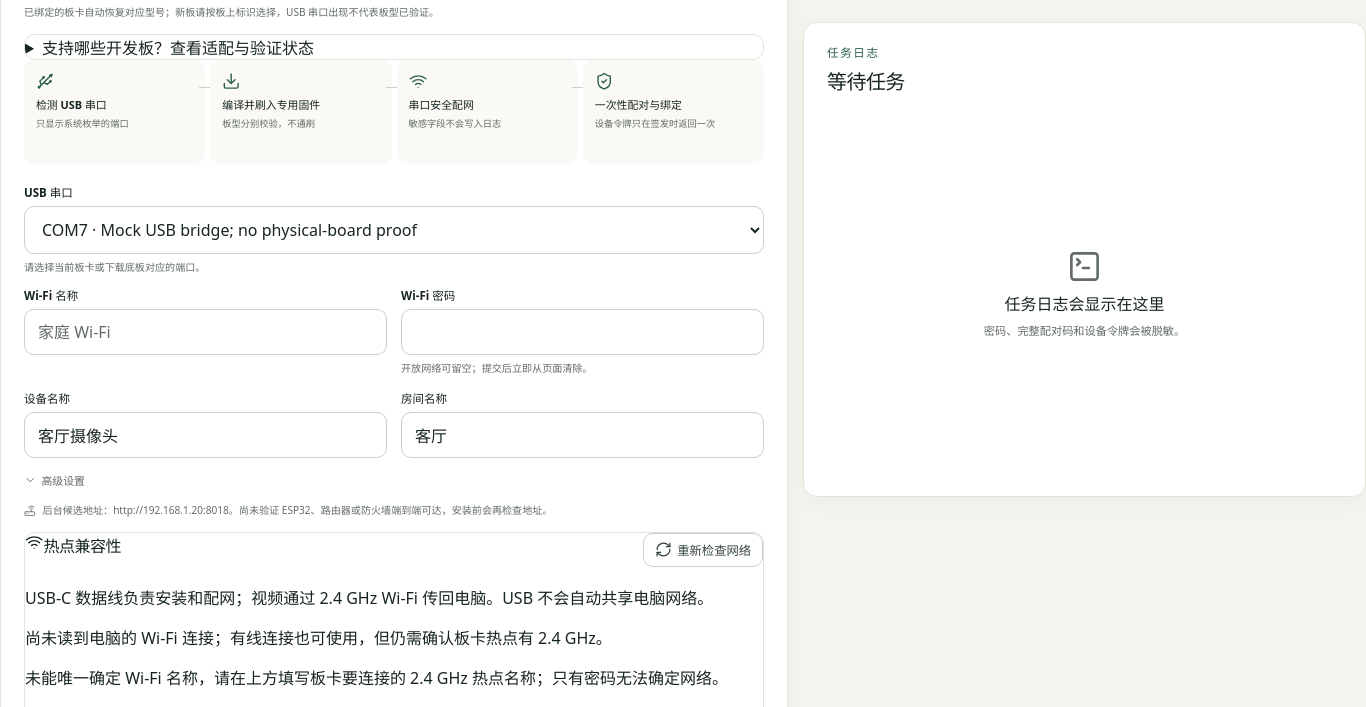
Mock component contracts: ESP32 LAN preflight, not hardware acceptance › enables a complete form only for a verified LAN listener and labels URL as candidate
(page scrolled)
Expected: the text "后台候选地址：http://192.168.1.20:8018。尚未验证 ESP32、路由器或防火墙端到端可达，安装前会再检查地址。" is shown, x1=24 y1=503 x2=552 y2=517
Type "Home" into the field with placeholder "家庭 Wi-Fi" at (206, 332), box x1=24 y1=310 x2=387 y2=356
(page scrolled)
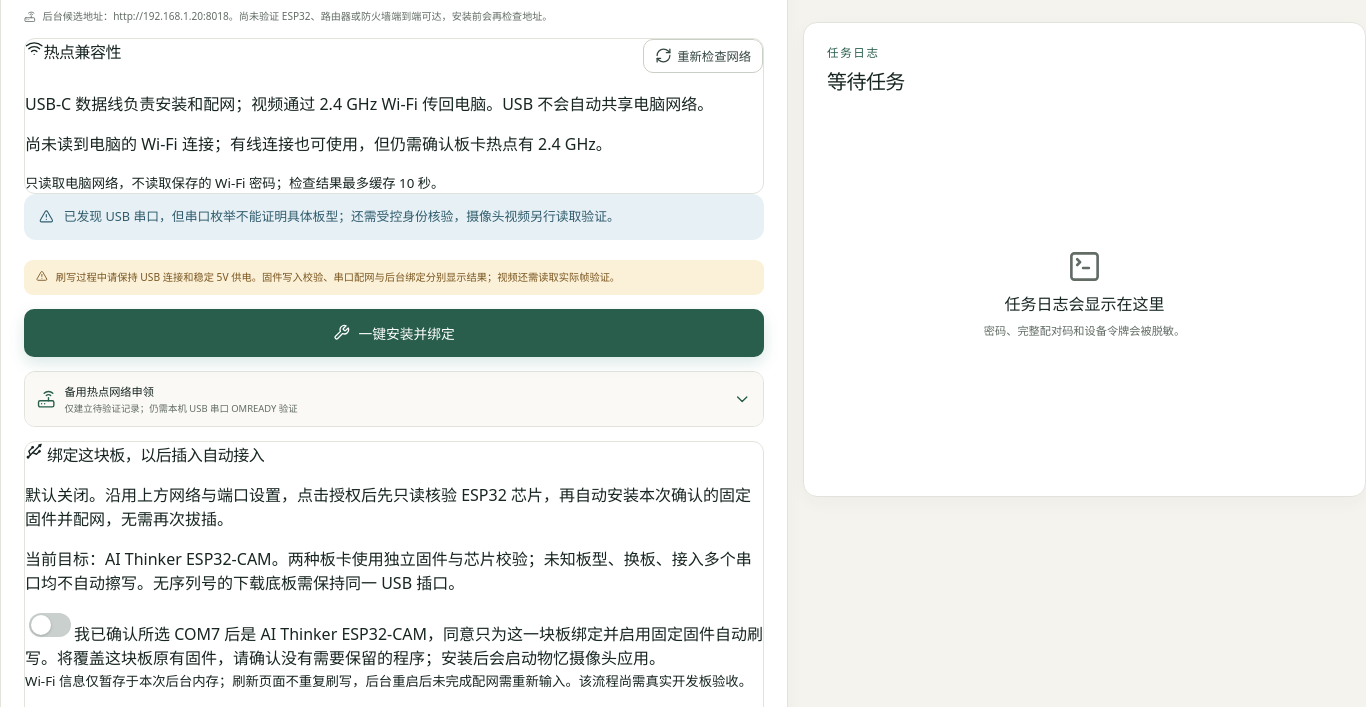
Result: the button "一键安装并绑定" is enabled at x1=24 y1=309 x2=764 y2=357
